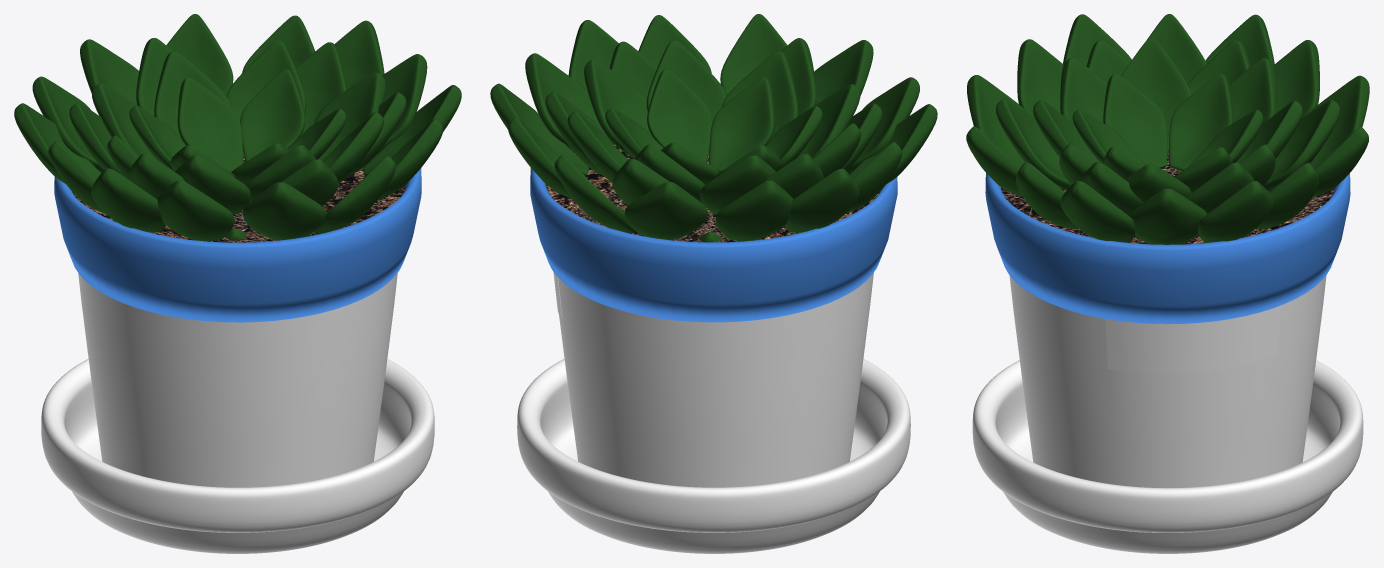
3 renders of one model, left to right at view 1: azimuth 30°, elevation 25°; view 2: azimuth 150°, elevation 25°; view 3: azimuth 270°, elevation 25°, orthographic.
Visible parts, largest first — view 1: Pot_13, Pot Plate_14, Pot.001_15, Cube.004_4, Cube.001_1, Cube.002_2, Cube.008_8, Cube.012_10, Cube.007_7, Cube.013_11, Cube.009_9, Cube_0 (+3 smaller); view 2: Pot_13, Pot Plate_14, Pot.001_15, Cube.004_4, Cube.002_2, Cube.001_1, Cube.008_8, Cube.012_10, Cube.007_7, Cube.013_11, Cube_0, Cube.006_6 (+3 smaller); view 3: Pot_13, Pot.001_15, Pot Plate_14, Cube.012_10, Cube.002_2, Cube.001_1, Cube.004_4, Cube.008_8, Cube.007_7, Cube.005_5, Cube_0, Cube.006_6 (+3 smaller).
Boxes of the visible parts, bbox=[...] form: Pot_13: bbox=[78, 273, 397, 487]; Pot Plate_14: bbox=[41, 359, 434, 553]; Pot.001_15: bbox=[54, 168, 421, 322]; Cube.004_4: bbox=[80, 14, 395, 240]; Cube.001_1: bbox=[14, 20, 461, 232]; Cube.002_2: bbox=[32, 15, 443, 241]; Cube.008_8: bbox=[92, 40, 383, 214]; Cube.012_10: bbox=[129, 69, 346, 177]; Cube.007_7: bbox=[69, 42, 406, 198]; Cube.013_11: bbox=[177, 77, 289, 184]; Cube.009_9: bbox=[154, 51, 316, 202]; Cube_0: bbox=[48, 54, 427, 212]; Pot_13: bbox=[558, 273, 873, 487]; Pot Plate_14: bbox=[517, 358, 910, 553]; Pot.001_15: bbox=[530, 168, 897, 322]; Cube.004_4: bbox=[554, 14, 873, 240]; Cube.002_2: bbox=[508, 15, 919, 241]; Cube.001_1: bbox=[490, 20, 937, 232]; Cube.008_8: bbox=[567, 40, 860, 214]; Cube.012_10: bbox=[605, 69, 822, 177]; Cube.007_7: bbox=[545, 41, 882, 199]; Cube.013_11: bbox=[661, 77, 774, 184]; Cube_0: bbox=[525, 53, 902, 213]; Cube.006_6: bbox=[584, 59, 861, 178]; Pot_13: bbox=[1009, 275, 1326, 488]; Pot.001_15: bbox=[985, 173, 1350, 373]; Pot Plate_14: bbox=[972, 360, 1363, 553]; Cube.012_10: bbox=[1102, 74, 1233, 193]; Cube.002_2: bbox=[1016, 39, 1319, 229]; Cube.001_1: bbox=[1060, 14, 1274, 242]; Cube.004_4: bbox=[966, 75, 1369, 197]; Cube.008_8: bbox=[1059, 57, 1276, 186]; Cube.007_7: bbox=[1080, 40, 1254, 214]; Cube.005_5: bbox=[996, 99, 1339, 190]; Cube_0: bbox=[1128, 14, 1207, 244]; Cube.006_6: bbox=[1121, 38, 1191, 202].
Bounding box in the file's own units: 1.08 × 1.11 × 1.02.
Materials: 4 (1 with a texture image).
